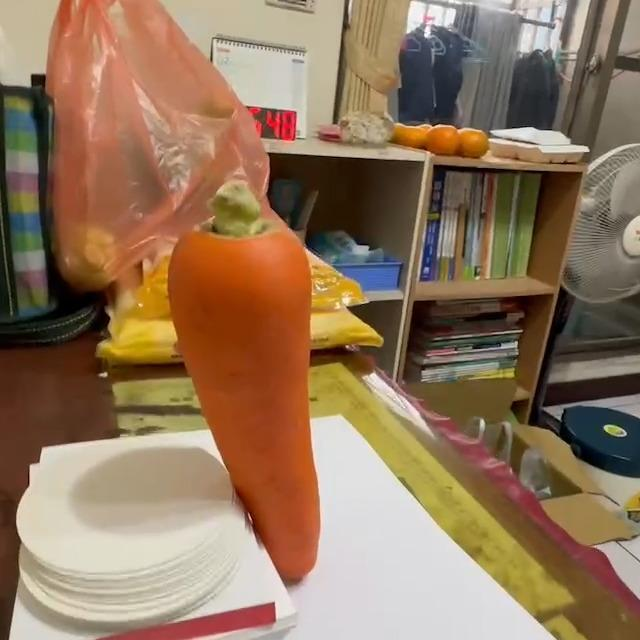carrot: (167, 179, 325, 586)
